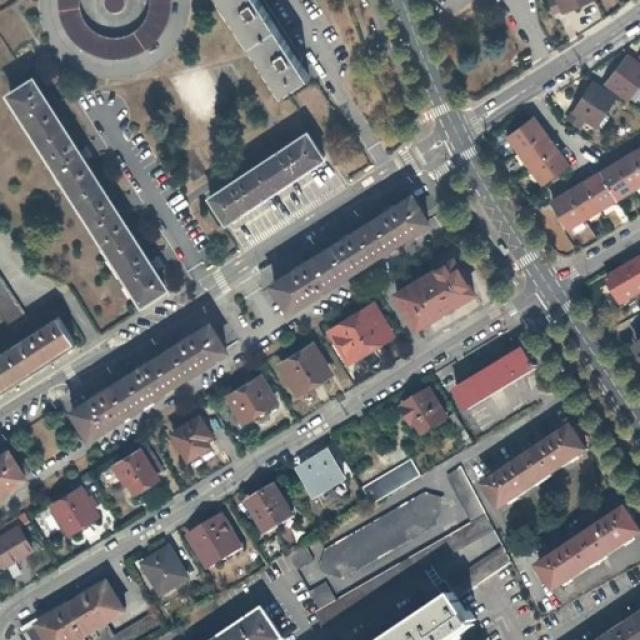immeuble: (0, 71, 167, 318), (69, 304, 227, 429), (268, 166, 430, 286), (316, 479, 466, 587), (205, 0, 322, 100), (198, 145, 320, 220), (475, 413, 577, 502), (550, 149, 640, 247), (541, 502, 640, 590), (445, 331, 537, 410), (0, 310, 78, 393), (24, 576, 123, 640), (398, 230, 477, 306), (366, 589, 474, 640), (504, 118, 574, 185), (218, 0, 278, 1)
maison: (332, 304, 392, 366), (567, 69, 623, 132), (173, 402, 220, 470), (51, 481, 99, 544), (112, 439, 160, 495), (135, 544, 184, 598), (248, 479, 297, 532), (278, 344, 325, 398), (193, 515, 241, 566), (230, 375, 277, 425), (404, 386, 448, 431), (1, 519, 34, 576), (0, 441, 25, 500)
piscine: (195, 406, 238, 442)
